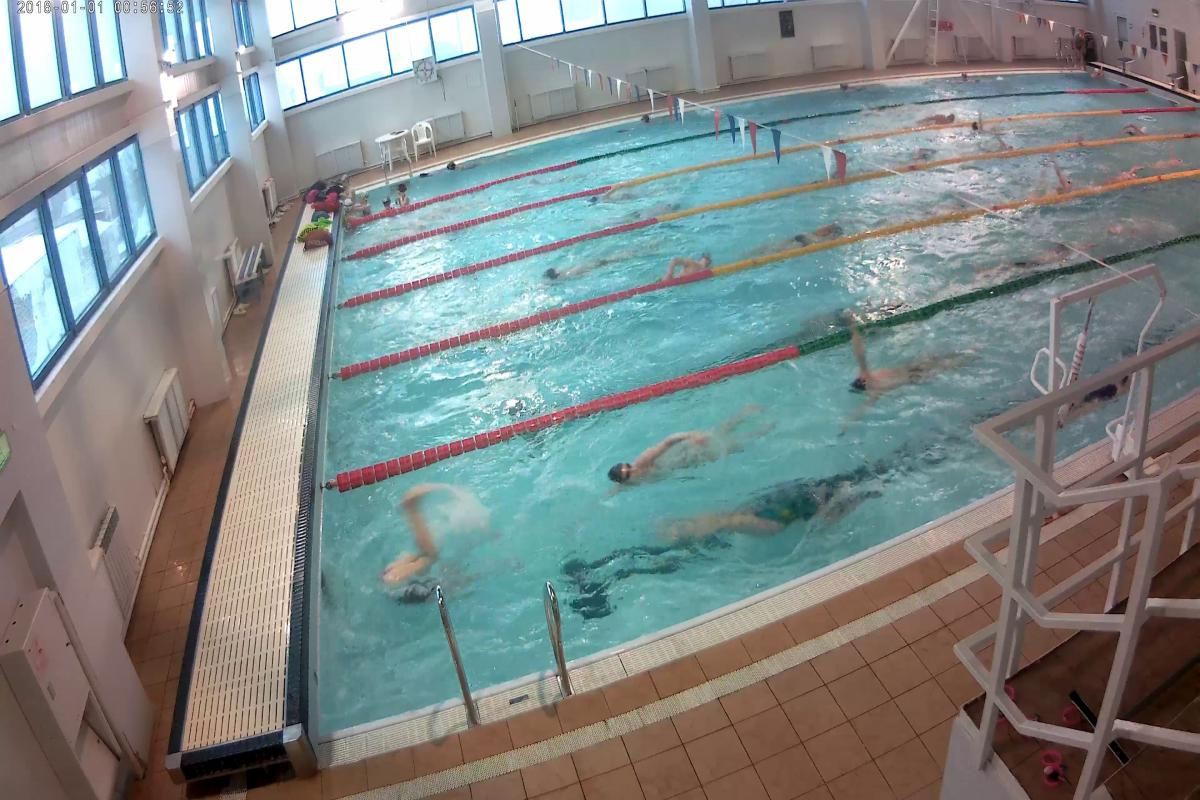swimmer: (362, 480, 474, 610), (592, 416, 763, 498), (675, 478, 849, 549), (838, 337, 974, 421), (764, 211, 849, 252), (541, 248, 621, 281), (660, 241, 719, 280), (582, 187, 632, 209), (916, 106, 963, 123), (1154, 148, 1186, 168), (1112, 160, 1142, 181), (912, 141, 941, 162), (1124, 117, 1154, 135)
